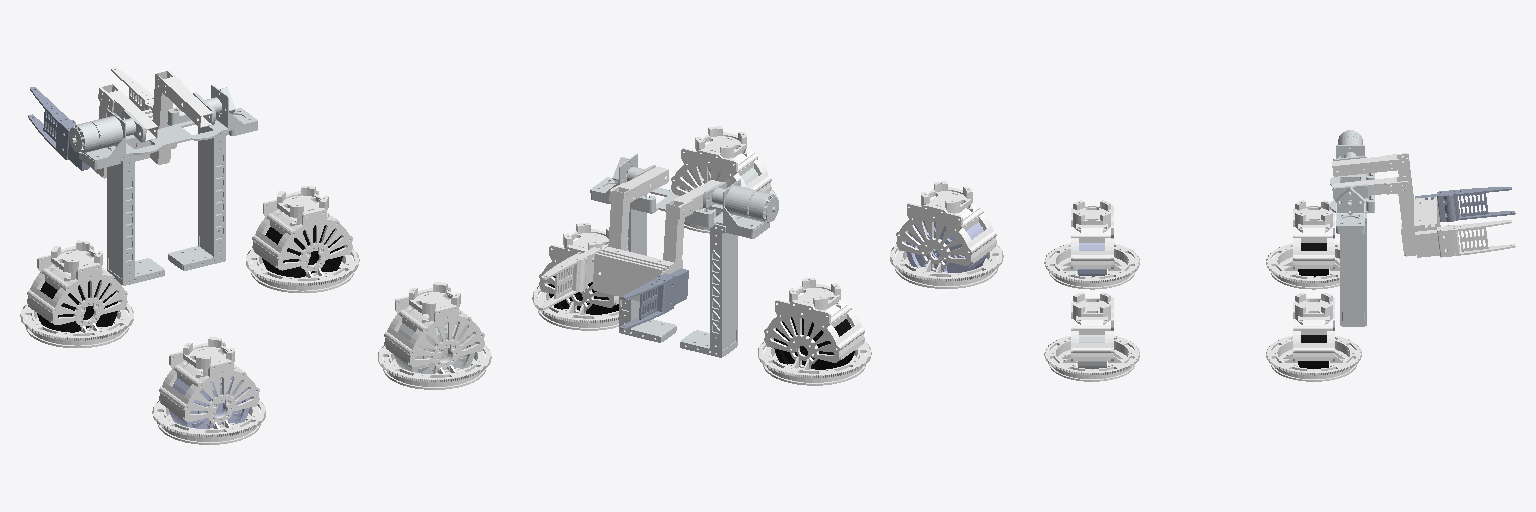
URDF robot description (robocon2022_r1_simplified):
<?xml version="1.0" encoding="utf-8"?>
<!-- This URDF was automatically created by SolidWorks to URDF Exporter! Originally created by [author] ([email redacted]) 
     Commit Version: 1.6.0-4-g7f85cfe  Build Version: 1.6.7995.38578
     For more information, please see http://wiki.ros.org/sw_urdf_exporter -->
<robot name="robocon2022_r1_simplified">
  <link name="base_link">
    <inertial>
      <origin xyz="0.351 0.245000000003016 0.01" rpy="0 0 0" />
      <mass value="0.0132167544156088" />
      <inertia ixx="1.50197709928808E-06" ixy="-5.94069592157178E-37" ixz="-1.94111717079111E-23" iyy="1.50197709928808E-06" iyz="1.37753244236986E-37" izz="2.73931323809453E-06" />
    </inertial>
    <visual>
      <origin xyz="0 0 0" rpy="0 0 0" />
      <geometry>
        <mesh filename="package://bupt_webots/protos/robocon2022_r1_meshes/base_link.STL" />
      </geometry>
      <material name="">
        <color rgba="1 1 1 1" />
      </material>
    </visual>
    <collision>
      <origin xyz="0 0 0" rpy="0 0 0" />
      <geometry>
        <mesh filename="package://bupt_webots/protos/robocon2022_r1_meshes/base_link.STL" />
      </geometry>
    </collision>
  </link>
  <link name="chassis_body">
    <inertial>
      <origin xyz="-0.000688430783615746 -0.019457841628204 0.0347181498764458" rpy="0 0 0" />
      <mass value="6.24664940697884" />
      <inertia ixx="0.0461486077788551" ixy="1.75319310562465E-13" ixz="1.94219611889693E-07" iyy="0.058844006799245" iyz="3.86628659903872E-07" izz="0.102246114390569" />
    </inertial>
    <visual>
      <origin xyz="0 0 0" rpy="0 0 0" />
      <geometry>
        <mesh filename="package://bupt_webots/protos/robocon2022_r1_meshes/chassis_body.STL" />
      </geometry>
      <material name="">
        <color rgba="1 1 1 1" />
      </material>
    </visual>
    <collision>
      <origin xyz="0 0 0" rpy="0 0 0" />
      <geometry>
        <mesh filename="package://bupt_webots/protos/robocon2022_r1_meshes/chassis_body.STL" />
      </geometry>
    </collision>
  </link>
  <joint name="chassis_body_joint" type="fixed">
    <origin xyz="0 0 0" rpy="0 0 0" />
    <parent link="base_link" />
    <child link="chassis_body" />
    <axis xyz="0 0 0" />
  </joint>
  <link name="wheel3_steer">
    <inertial>
      <origin xyz="4.2556483337286E-09 0.00102992315637235 0.00609141992606793" rpy="0 0 0" />
      <mass value="0.363584280103576" />
      <inertia ixx="0.000461108833621146" ixy="1.91383923140755E-11" ixz="-1.6979023397469E-11" iyy="0.000612765060786162" iyz="2.26296480821955E-07" izz="0.00087263427190016" />
    </inertial>
    <visual>
      <origin xyz="0 0 0" rpy="0 0 0" />
      <geometry>
        <mesh filename="package://bupt_webots/protos/robocon2022_r1_meshes/wheel_steer.STL" />
      </geometry>
      <material name="">
        <color rgba="1 1 1 1" />
      </material>
    </visual>
    <collision>
      <origin xyz="0 0 0" rpy="0 0 0" />
      <geometry>
        <mesh filename="package://bupt_webots/protos/robocon2022_r1_meshes/wheel_steer.STL" />
      </geometry>
    </collision>
  </link>
  <joint name="wheel3_steer_joint" type="continuous">
    <origin xyz="0.184999999999992 -0.190626374887769 0.0110000000000103" rpy="0 0 0" />
    <parent link="base_link" />
    <child link="wheel3_steer" />
    <axis xyz="0 0 1" />
  </joint>
  <link name="wheel3_drive">
    <inertial>
      <origin xyz="1.38327596710397E-07 -0.000813975883675572 3.73325027278396E-05" rpy="0 0 0" />
      <mass value="0.401054038556159" />
      <inertia ixx="0.000391338443211813" ixy="8.58339752247451E-10" ixz="-1.91269286332276E-09" iyy="0.000661304019748952" iyz="2.38588693510325E-07" izz="0.0003908145238052" />
    </inertial>
    <visual>
      <origin xyz="0 0 0" rpy="0 0 0" />
      <geometry>
        <mesh filename="package://bupt_webots/protos/robocon2022_r1_meshes/wheel_drive.STL" />
      </geometry>
      <material name="">
        <color rgba="0.898039215686275 0.917647058823529 0.929411764705882 1" />
      </material>
    </visual>
    <collision>
      <origin xyz="0 0 0" rpy="0 0 0" />
      <geometry>
        <mesh filename="package://bupt_webots/protos/robocon2022_r1_meshes/wheel_drive.STL" />
      </geometry>
    </collision>
  </link>
  <joint name="wheel3_drive_joint" type="continuous">
    <origin xyz="0 0 0" rpy="0 0 0" />
    <parent link="wheel3_steer" />
    <child link="wheel3_drive" />
    <axis xyz="0 -1 0" />
  </joint>
  <link name="wheel1_steer">
    <inertial>
      <origin xyz="4.25460693065371E-09 0.00102992315886763 0.00609141992607102" rpy="0 0 0" />
      <mass value="0.36358428010353" />
      <inertia ixx="0.000461108833621143" ixy="1.91383846026875E-11" ixz="-1.69790348542586E-11" iyy="0.000612765060786142" iyz="2.26296480819783E-07" izz="0.000872634271900149" />
    </inertial>
    <visual>
      <origin xyz="0 0 0" rpy="0 0 0" />
      <geometry>
        <mesh filename="package://bupt_webots/protos/robocon2022_r1_meshes/wheel_steer.STL" />
      </geometry>
      <material name="">
        <color rgba="1 1 1 1" />
      </material>
    </visual>
    <collision>
      <origin xyz="0 0 0" rpy="0 0 0" />
      <geometry>
        <mesh filename="package://bupt_webots/protos/robocon2022_r1_meshes/wheel_steer.STL" />
      </geometry>
    </collision>
  </link>
  <joint name="wheel1_steer_joint" type="continuous">
    <origin xyz="-0.184999999999993 0.185000000000312 0.0110000000000081" rpy="0 0 0" />
    <parent link="base_link" />
    <child link="wheel1_steer" />
    <axis xyz="0 0 1" />
  </joint>
  <link name="wheel1_drive">
    <inertial>
      <origin xyz="1.38326552281964E-07 -0.000813975881174767 3.73325027299976E-05" rpy="0 0 0" />
      <mass value="0.401054038556159" />
      <inertia ixx="0.000391338443211813" ixy="8.58339752152584E-10" ixz="-1.9126928633852E-09" iyy="0.000661304019748953" iyz="2.38588693510404E-07" izz="0.0003908145238052" />
    </inertial>
    <visual>
      <origin xyz="0 0 0" rpy="0 0 0" />
      <geometry>
        <mesh filename="package://bupt_webots/protos/robocon2022_r1_meshes/wheel_drive.STL" />
      </geometry>
      <material name="">
        <color rgba="0.101960784313725 0.101960784313725 0.101960784313725 1" />
      </material>
    </visual>
    <collision>
      <origin xyz="0 0 0" rpy="0 0 0" />
      <geometry>
        <mesh filename="package://bupt_webots/protos/robocon2022_r1_meshes/wheel_drive.STL" />
      </geometry>
    </collision>
  </link>
  <joint name="wheel1_drive_joint" type="continuous">
    <origin xyz="0 0 0" rpy="0 0 0" />
    <parent link="wheel1_steer" />
    <child link="wheel1_drive" />
    <axis xyz="0 1 0" />
  </joint>
  <link name="wheel2_steer">
    <inertial>
      <origin xyz="4.25815249727179E-09 0.0010299231574194 0.00609141992606885" rpy="0 0 0" />
      <mass value="0.363584280103632" />
      <inertia ixx="0.000461108833621168" ixy="1.91383872047727E-11" ixz="-1.69790369113317E-11" iyy="0.000612765060786179" iyz="2.26296480822545E-07" izz="0.000872634271900183" />
    </inertial>
    <visual>
      <origin xyz="0 0 0" rpy="0 0 0" />
      <geometry>
        <mesh filename="package://bupt_webots/protos/robocon2022_r1_meshes/wheel_steer.STL" />
      </geometry>
      <material name="">
        <color rgba="1 1 1 1" />
      </material>
    </visual>
    <collision>
      <origin xyz="0 0 0" rpy="0 0 0" />
      <geometry>
        <mesh filename="package://bupt_webots/protos/robocon2022_r1_meshes/wheel_steer.STL" />
      </geometry>
    </collision>
  </link>
  <joint name="wheel2_steer_joint" type="continuous">
    <origin xyz="0.184999999999994 0.185000000000313 0.0110000000000081" rpy="0 0 0" />
    <parent link="base_link" />
    <child link="wheel2_steer" />
    <axis xyz="0 0 1" />
  </joint>
  <link name="wheel2_drive">
    <inertial>
      <origin xyz="1.38330098042871E-07 -0.000813975882630824 3.73325027300184E-05" rpy="0 0 0" />
      <mass value="0.401054038556158" />
      <inertia ixx="0.000391338443211813" ixy="8.58339752152584E-10" ixz="-1.91269286341184E-09" iyy="0.000661304019748952" iyz="2.3858869351028E-07" izz="0.0003908145238052" />
    </inertial>
    <visual>
      <origin xyz="0 0 0" rpy="0 0 0" />
      <geometry>
        <mesh filename="package://bupt_webots/protos/robocon2022_r1_meshes/wheel_drive.STL" />
      </geometry>
      <material name="">
        <color rgba="0.101960784313725 0.101960784313725 0.101960784313725 1" />
      </material>
    </visual>
    <collision>
      <origin xyz="0 0 0" rpy="0 0 0" />
      <geometry>
        <mesh filename="package://bupt_webots/protos/robocon2022_r1_meshes/wheel_drive.STL" />
      </geometry>
    </collision>
  </link>
  <joint name="wheel2_drive_joint" type="continuous">
    <origin xyz="0 0 0" rpy="0 0 0" />
    <parent link="wheel2_steer" />
    <child link="wheel2_drive" />
    <axis xyz="0 1 0" />
  </joint>
  <link name="wheel4_steer">
    <inertial>
      <origin xyz="4.25565641060111E-09 0.00102992315636831 0.00609141992606862" rpy="0 0 0" />
      <mass value="0.363584280103545" />
      <inertia ixx="0.000461108833621139" ixy="1.9138383098357E-11" ixz="-1.69790362062226E-11" iyy="0.000612765060786149" iyz="2.26296480820544E-07" izz="0.000872634271900148" />
    </inertial>
    <visual>
      <origin xyz="0 0 0" rpy="0 0 0" />
      <geometry>
        <mesh filename="package://bupt_webots/protos/robocon2022_r1_meshes/wheel_steer.STL" />
      </geometry>
      <material name="">
        <color rgba="1 1 1 1" />
      </material>
    </visual>
    <collision>
      <origin xyz="0 0 0" rpy="0 0 0" />
      <geometry>
        <mesh filename="package://bupt_webots/protos/robocon2022_r1_meshes/wheel_steer.STL" />
      </geometry>
    </collision>
  </link>
  <joint name="wheel4_steer_joint" type="continuous">
    <origin xyz="-0.184999999999993 -0.190626374887773 0.0110000000000103" rpy="0 0 0" />
    <parent link="base_link" />
    <child link="wheel4_steer" />
    <axis xyz="0 0 1" />
  </joint>
  <link name="wheel4_drive">
    <inertial>
      <origin xyz="1.3832760177579E-07 -0.000813975883675627 3.73325027278326E-05" rpy="0 0 0" />
      <mass value="0.401054038556158" />
      <inertia ixx="0.000391338443211812" ixy="8.58339751949296E-10" ixz="-1.91269286338702E-09" iyy="0.000661304019748951" iyz="2.38588693510301E-07" izz="0.000390814523805199" />
    </inertial>
    <visual>
      <origin xyz="0 0 0" rpy="0 0 0" />
      <geometry>
        <mesh filename="package://bupt_webots/protos/robocon2022_r1_meshes/wheel_drive.STL" />
      </geometry>
      <material name="">
        <color rgba="0.792156862745098 0.819607843137255 0.929411764705882 1" />
      </material>
    </visual>
    <collision>
      <origin xyz="0 0 0" rpy="0 0 0" />
      <geometry>
        <mesh filename="package://bupt_webots/protos/robocon2022_r1_meshes/wheel_drive.STL" />
      </geometry>
    </collision>
  </link>
  <joint name="wheel4_drive_joint" type="continuous">
    <origin xyz="0 0 0" rpy="0 0 0" />
    <parent link="wheel4_steer" />
    <child link="wheel4_drive" />
    <axis xyz="0 1 0" />
  </joint>
  <link name="gripper_base">
    <inertial>
      <origin xyz="-0.0162714841787159 0.00438288183838653 -0.0833650770990987" rpy="0 0 0" />
      <mass value="0.608015280347814" />
      <inertia ixx="0.000758775217853689" ixy="-4.29845874023247E-09" ixz="4.67386668049812E-09" iyy="0.00121660821190195" iyz="1.23184462535032E-06" izz="0.000651801178873674" />
    </inertial>
    <visual>
      <origin xyz="0 0 0" rpy="0 0 0" />
      <geometry>
        <mesh filename="package://bupt_webots/protos/robocon2022_r1_meshes/gripper_base.STL" />
      </geometry>
      <material name="">
        <color rgba="0.898039215686275 0.917647058823529 0.929411764705882 1" />
      </material>
    </visual>
    <collision>
      <origin xyz="0 0 0" rpy="0 0 0" />
      <geometry>
        <mesh filename="package://bupt_webots/protos/robocon2022_r1_meshes/gripper_base.STL" />
      </geometry>
    </collision>
  </link>
  <joint name="gripper_base_joint" type="fixed">
    <origin xyz="0.000900000000165768 0.247000000000306 0.237999999999999" rpy="0 0 0" />
    <parent link="base_link" />
    <child link="gripper_base" />
    <axis xyz="0 0 0" />
  </joint>
  <link name="gripper_link1">
    <inertial>
      <origin xyz="1.50410794930167E-11 0.117386971070829 -0.0768482416434615" rpy="0 0 0" />
      <mass value="0.26340677659923" />
      <inertia ixx="0.000132678284764725" ixy="-3.92060682027975E-19" ixz="1.39509055302651E-19" iyy="0.000294342419796551" iyz="4.42512609522839E-06" izz="0.000254857495891831" />
    </inertial>
    <visual>
      <origin xyz="0 0 0" rpy="0 0 0" />
      <geometry>
        <mesh filename="package://bupt_webots/protos/robocon2022_r1_meshes/gripper_link1.STL" />
      </geometry>
      <material name="">
        <color rgba="1 1 1 1" />
      </material>
    </visual>
    <collision>
      <origin xyz="0 0 0" rpy="0 0 0" />
      <geometry>
        <mesh filename="package://bupt_webots/protos/robocon2022_r1_meshes/gripper_link1.STL" />
      </geometry>
    </collision>
  </link>
  <joint name="gripper_link1_joint" type="revolute">
    <origin xyz="0 0 0" rpy="0 0 0" />
    <parent link="gripper_base" />
    <child link="gripper_link1" />
    <axis xyz="-1 0 0" />
    <limit lower="-3.33" upper="0.45" effort="0" velocity="0" />
  </joint>
  <link name="gripper_tip1">
    <inertial>
      <origin xyz="-0.0665353017900291 0.0514005995430306 -0.0219203692427342" rpy="0 0 0" />
      <mass value="0.0812520498089319" />
      <inertia ixx="4.67859772595514E-05" ixy="1.33690084419114E-06" ixz="3.10572239132725E-07" iyy="3.12707158468051E-05" iyz="-2.49634820383674E-06" izz="5.78784059483058E-05" />
    </inertial>
    <visual>
      <origin xyz="0 0 0" rpy="0 0 0" />
      <geometry>
        <mesh filename="package://bupt_webots/protos/robocon2022_r1_meshes/gripper_tip1.STL" />
      </geometry>
      <material name="">
        <color rgba="0.666666666666667 0.698039215686274 0.768627450980392 1" />
      </material>
    </visual>
    <collision>
      <origin xyz="0 0 0" rpy="0 0 0" />
      <geometry>
        <mesh filename="package://bupt_webots/protos/robocon2022_r1_meshes/gripper_tip1.STL" />
      </geometry>
    </collision>
  </link>
  <joint name="gripper_tip1_joint" type="prismatic">
    <origin xyz="0 0.116697188684158 -0.0623165741863268" rpy="0 0 0" />
    <parent link="gripper_link1" />
    <child link="gripper_tip1" />
    <axis xyz="-1 0 0" />
    <limit lower="0" upper="0.05" effort="0" velocity="0" />
  </joint>
  <link name="gripper_tip2">
    <inertial>
      <origin xyz="0.0665353018128306 0.051391246149763 -0.0218374195341841" rpy="0 0 0" />
      <mass value="0.0812520498089319" />
      <inertia ixx="4.67859772595515E-05" ixy="-1.37249165943429E-06" ixz="5.06238104517842E-09" iyy="3.15062917078577E-05" iyz="-3.527660396782E-06" izz="5.76428300872338E-05" />
    </inertial>
    <visual>
      <origin xyz="0 0 0" rpy="0 0 0" />
      <geometry>
        <mesh filename="package://bupt_webots/protos/robocon2022_r1_meshes/gripper_tip2.STL" />
      </geometry>
      <material name="">
        <color rgba="1 1 1 1" />
      </material>
    </visual>
    <collision>
      <origin xyz="0 0 0" rpy="0 0 0" />
      <geometry>
        <mesh filename="package://bupt_webots/protos/robocon2022_r1_meshes/gripper_tip2.STL" />
      </geometry>
    </collision>
  </link>
  <joint name="gripper_tip2_joint" type="prismatic">
    <origin xyz="0 0.116697188684158 -0.0623165741863268" rpy="0 0 0" />
    <parent link="gripper_link1" />
    <child link="gripper_tip2" />
    <axis xyz="1 0 0" />
    <limit lower="0" upper="0.05" effort="0" velocity="0" />
  </joint>
</robot>

--- Facts derived from the render (not from the file) ---
The picture shows the robot from 3 angles, left to right: view 1: azimuth 30°, elevation 25°; view 2: azimuth 150°, elevation 25°; view 3: azimuth 270°, elevation 25°; orthographic projection.
Model robocon2022_r1_simplified with 14 links and 13 joints (1 revolute, 8 continuous, 2 prismatic, 2 fixed), rooted at base_link, posed every joint at zero.
Visible links, largest first — view 1: gripper_base, wheel1_steer, wheel4_steer, wheel2_steer, wheel3_steer, gripper_link1, gripper_tip1, wheel3_drive, wheel2_drive, wheel4_drive, wheel1_drive, gripper_tip2; view 2: gripper_base, wheel1_steer, wheel4_steer, gripper_link1, wheel3_steer, wheel2_steer, gripper_tip1, gripper_tip2, wheel4_drive, wheel1_drive, wheel2_drive; view 3: gripper_base, wheel4_steer, wheel3_steer, wheel2_steer, wheel1_steer, gripper_link1, gripper_tip2, gripper_tip1.
Link boxes in pixels (x1=…): gripper_base: x1=69, y1=85, x2=257, y2=285; wheel1_steer: x1=20, y1=240, x2=133, y2=347; wheel4_steer: x1=152, y1=337, x2=265, y2=444; wheel2_steer: x1=246, y1=186, x2=359, y2=292; wheel3_steer: x1=378, y1=282, x2=491, y2=389; gripper_link1: x1=92, y1=71, x2=212, y2=178; gripper_tip1: x1=28, y1=87, x2=89, y2=170; wheel3_drive: x1=394, y1=322, x2=475, y2=373; wheel2_drive: x1=262, y1=225, x2=343, y2=277; wheel4_drive: x1=169, y1=376, x2=249, y2=428; wheel1_drive: x1=37, y1=280, x2=117, y2=332; gripper_tip2: x1=111, y1=67, x2=176, y2=148; gripper_base: x1=590, y1=154, x2=778, y2=357; wheel1_steer: x1=758, y1=278, x2=871, y2=385; wheel4_steer: x1=890, y1=181, x2=1003, y2=288; gripper_link1: x1=593, y1=166, x2=721, y2=301; wheel3_steer: x1=665, y1=126, x2=777, y2=233; wheel2_steer: x1=532, y1=223, x2=618, y2=330; gripper_tip1: x1=620, y1=268, x2=688, y2=329; gripper_tip2: x1=539, y1=247, x2=601, y2=310; wheel4_drive: x1=906, y1=221, x2=986, y2=272; wheel1_drive: x1=774, y1=317, x2=854, y2=369; wheel2_drive: x1=548, y1=276, x2=618, y2=314; gripper_base: x1=1330, y1=130, x2=1374, y2=326; wheel4_steer: x1=1044, y1=200, x2=1139, y2=289; wheel3_steer: x1=1044, y1=293, x2=1139, y2=381; wheel2_steer: x1=1266, y1=293, x2=1361, y2=381; wheel1_steer: x1=1266, y1=200, x2=1339, y2=289; gripper_link1: x1=1332, y1=153, x2=1440, y2=256; gripper_tip2: x1=1415, y1=220, x2=1515, y2=257; gripper_tip1: x1=1415, y1=187, x2=1515, y2=221.
Bounding box of the posed robot: 0.532 × 0.7983 × 0.3046 m (x, y, z).
Meshes: 8 distinct files referenced, 12 mesh visuals loaded (6 binary STL); not drawn: 2 (reference not matched to a file when rendering).